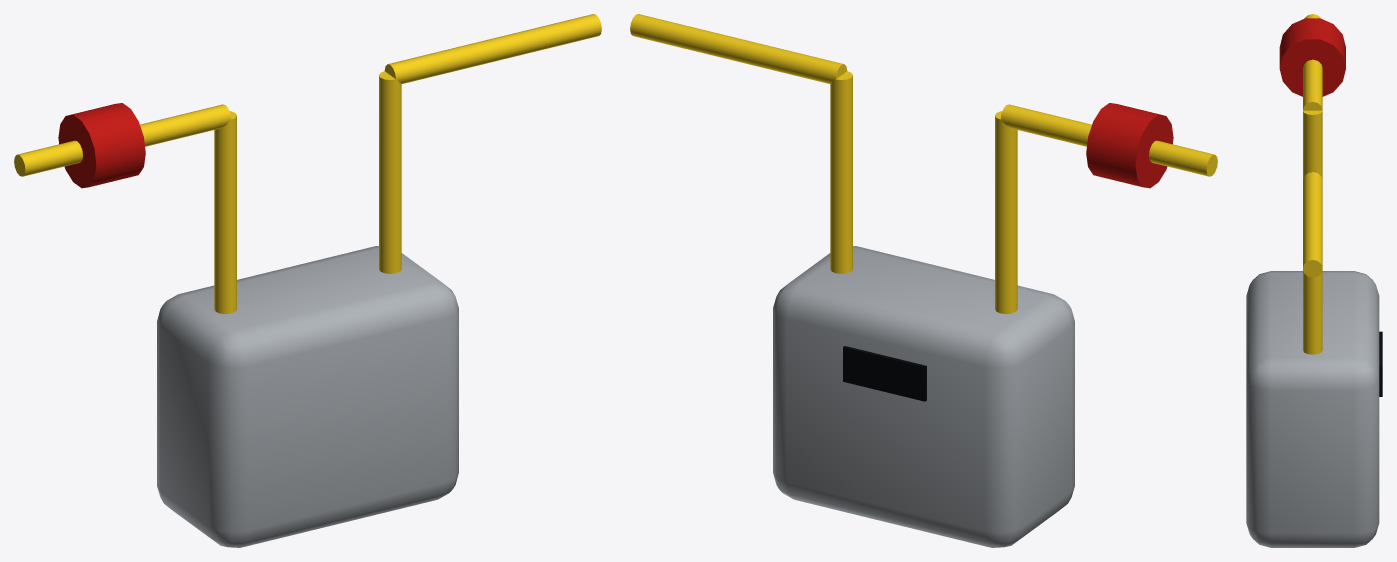
The model's file is services.plant.meter_gas.glb.
The picture shows the model from 3 angles, left to right: view 1: azimuth 30°, elevation 25°; view 2: azimuth 150°, elevation 25°; view 3: azimuth 270°, elevation 25°; orthographic projection. The views are drawn at different scales.
Visible parts, largest first — view 1: main__steel_galvanised, main__plastic_yellow, main__plastic_red; view 2: main__steel_galvanised, main__plastic_yellow, main__plastic_red, main__screen; view 3: main__steel_galvanised, main__plastic_yellow, main__plastic_red, main__screen.
Part boxes in pixels (bbox=[...]): main__steel_galvanised: bbox=[157, 246, 458, 547]; main__plastic_yellow: bbox=[14, 14, 601, 314]; main__plastic_red: bbox=[58, 103, 145, 188]; main__steel_galvanised: bbox=[773, 246, 1074, 547]; main__plastic_yellow: bbox=[630, 14, 1217, 314]; main__plastic_red: bbox=[1086, 103, 1173, 188]; main__screen: bbox=[843, 346, 926, 401]; main__steel_galvanised: bbox=[1246, 271, 1379, 547]; main__plastic_yellow: bbox=[1303, 14, 1322, 354]; main__plastic_red: bbox=[1279, 18, 1345, 96]; main__screen: bbox=[1379, 331, 1382, 396].
Size of the model in its own units: 0.7 by 0.514 by 0.164.
